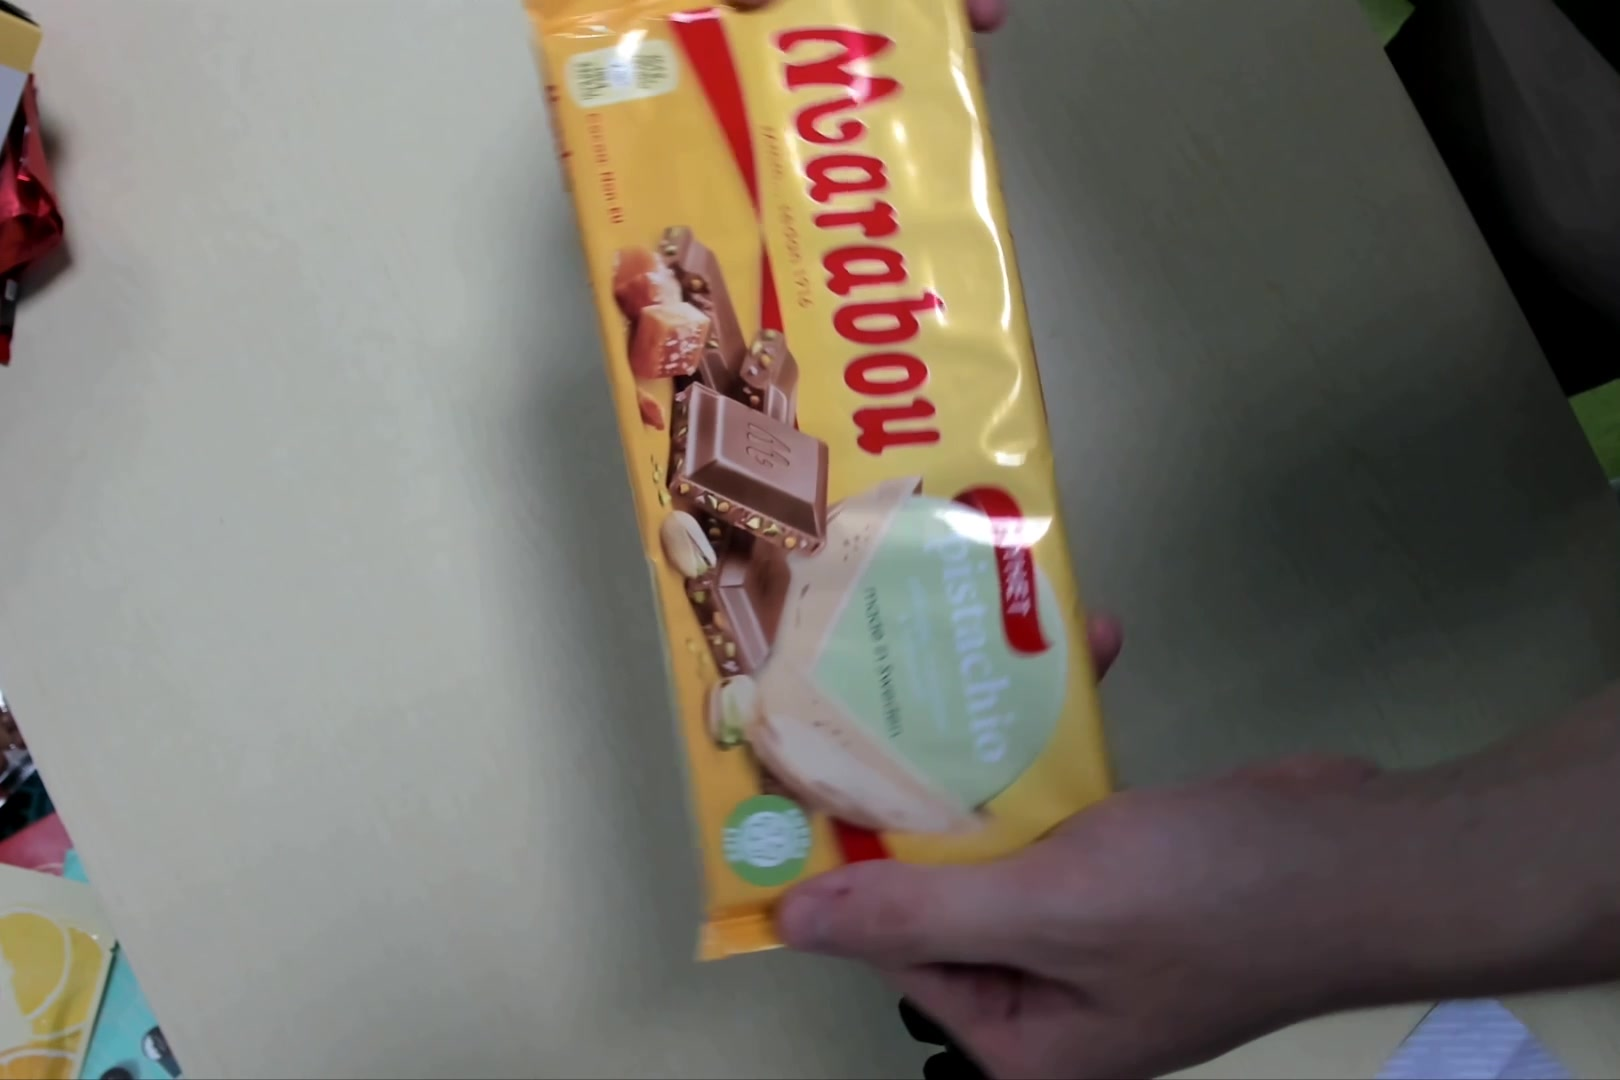SweetsChocolatesOthers_100-199g_NonHalal_NonHealthy: (539, 14, 1113, 958)
